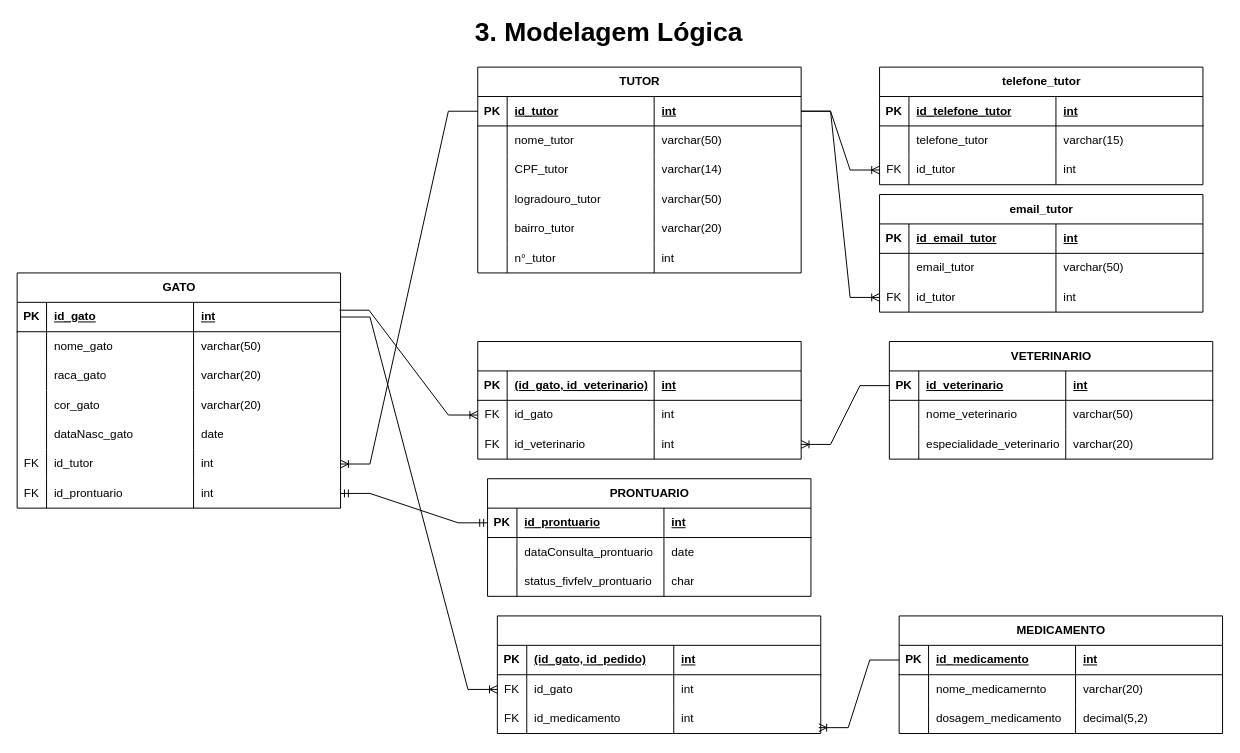
Image size: 1240x753. Some labels were removed from this diagram. The shapes that lost their labels are listed below. From the top down, each one's box as (x1, y1, x2, y2) in pixels, then its label:
(477, 341, 801, 459): GATO-VETERINARIO
(496, 615, 821, 734): GATO-MEDICAMENTO
